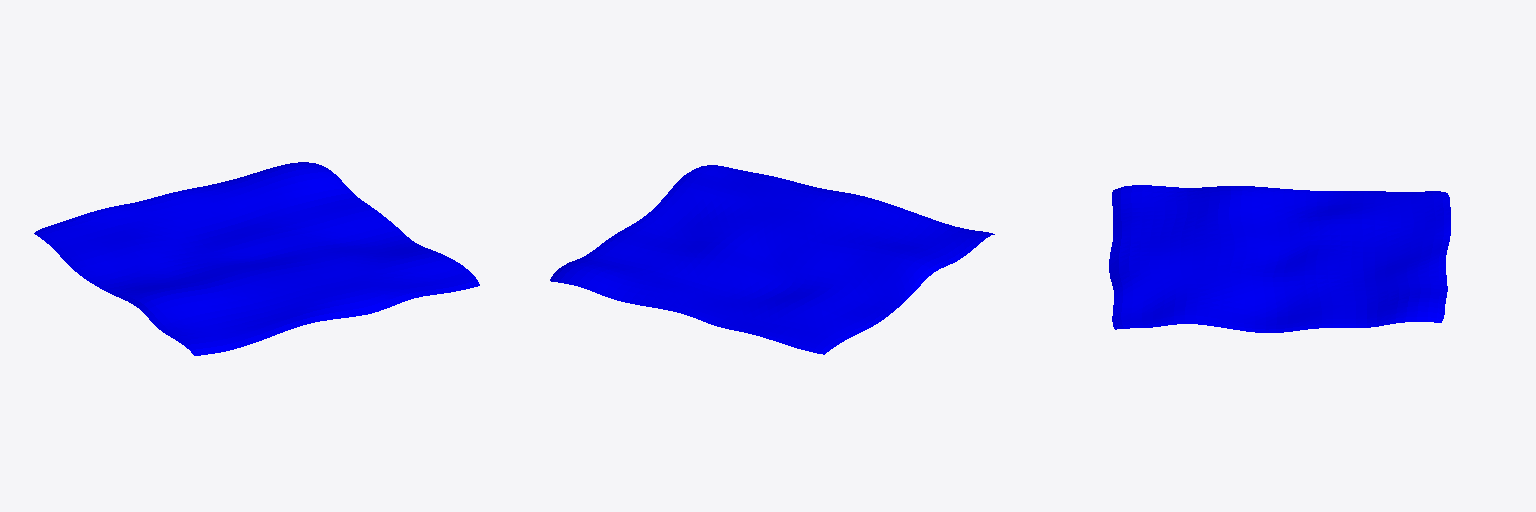
The picture shows the model from 3 angles: view 1: azimuth 30°, elevation 25°; view 2: azimuth 150°, elevation 25°; view 3: azimuth 270°, elevation 25°; orthographic projection.
Parts seen in each view (by area): view 1: ET; view 2: ET; view 3: ET.
Boxes of the visible parts, x1=… form: ET: x1=34, y1=162, x2=479, y2=355; ET: x1=550, y1=165, x2=994, y2=354; ET: x1=1109, y1=185, x2=1450, y2=332.
Bounding box in the file's own units: 3.01 × 0.1566 × 3.05.